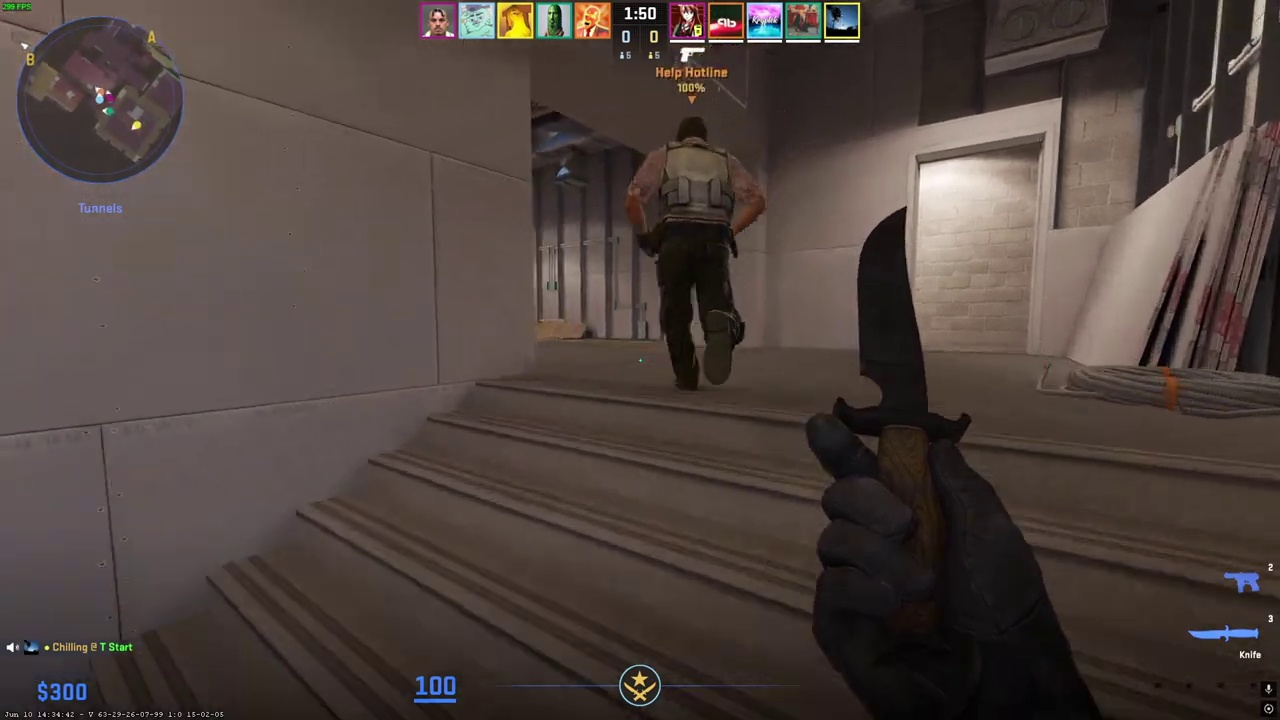Terrorist: (638, 116, 753, 392)
